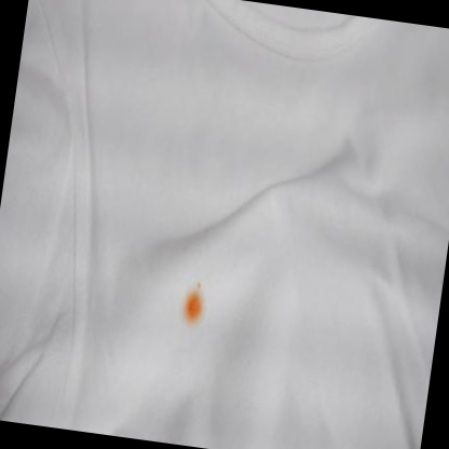kimchi: (179, 276, 214, 329)
